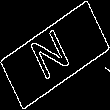N_SE: (30, 23, 80, 87)
